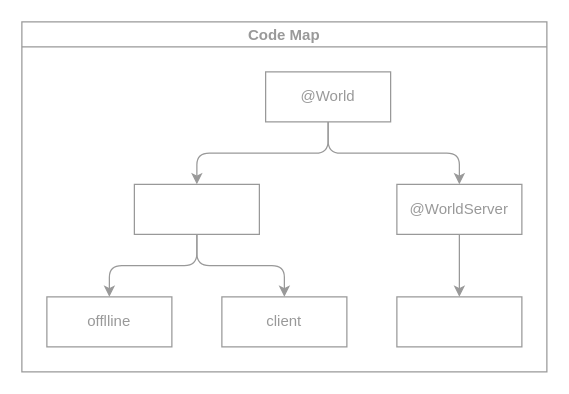
Image size: 569x394. Some labels were removed from this diagram. The shapes that lost their labels are listed below. From the top down, each one's centre as x and y in pixels, then its label:
At [196,208]: "@WorldClient".
At [459,321]: "server".
